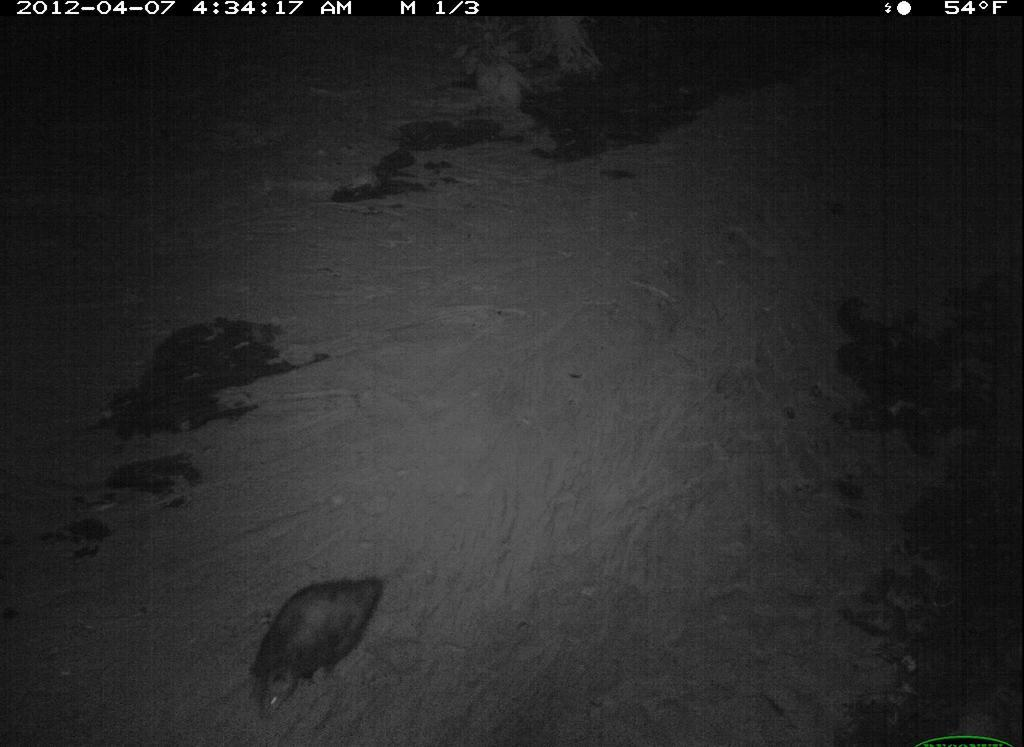opossum: (228, 552, 402, 733)
